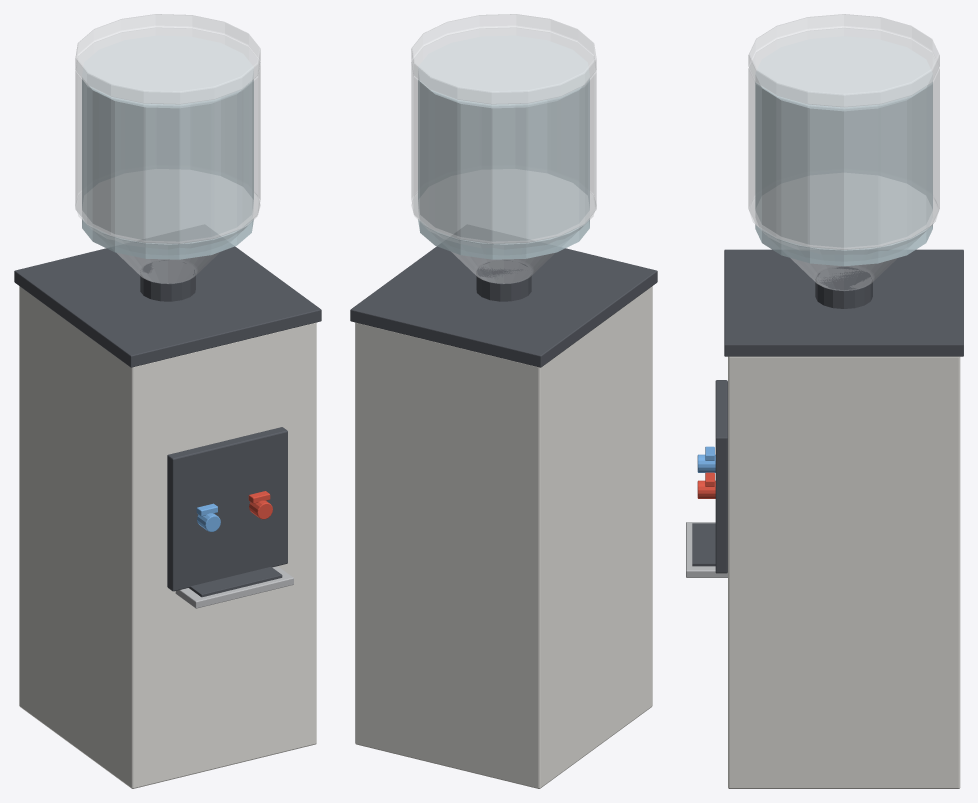
Rendered from water_cooler.glb.
3 views of the same model, side by side, from view 1: azimuth 30°, elevation 25°; view 2: azimuth 150°, elevation 25°; view 3: azimuth 270°, elevation 25° (orthographic). The views are drawn at different scales.
Visible parts, largest first — view 1: WaterCooler; view 2: WaterCooler; view 3: WaterCooler.
Boxes of the visible parts, <box> form: WaterCooler: <box>14,14,321,788</box>; WaterCooler: <box>350,14,657,788</box>; WaterCooler: <box>686,14,963,788</box>.
Bounding box in the file's own units: 0.396 × 1.33 × 0.4872.
